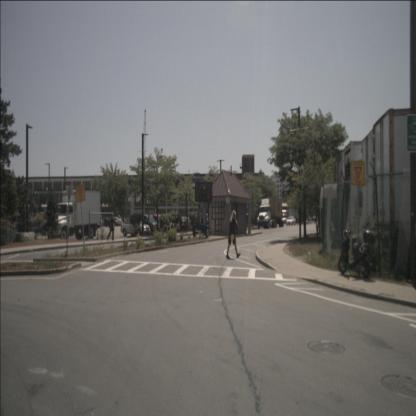cone: (96, 231, 99, 240)
